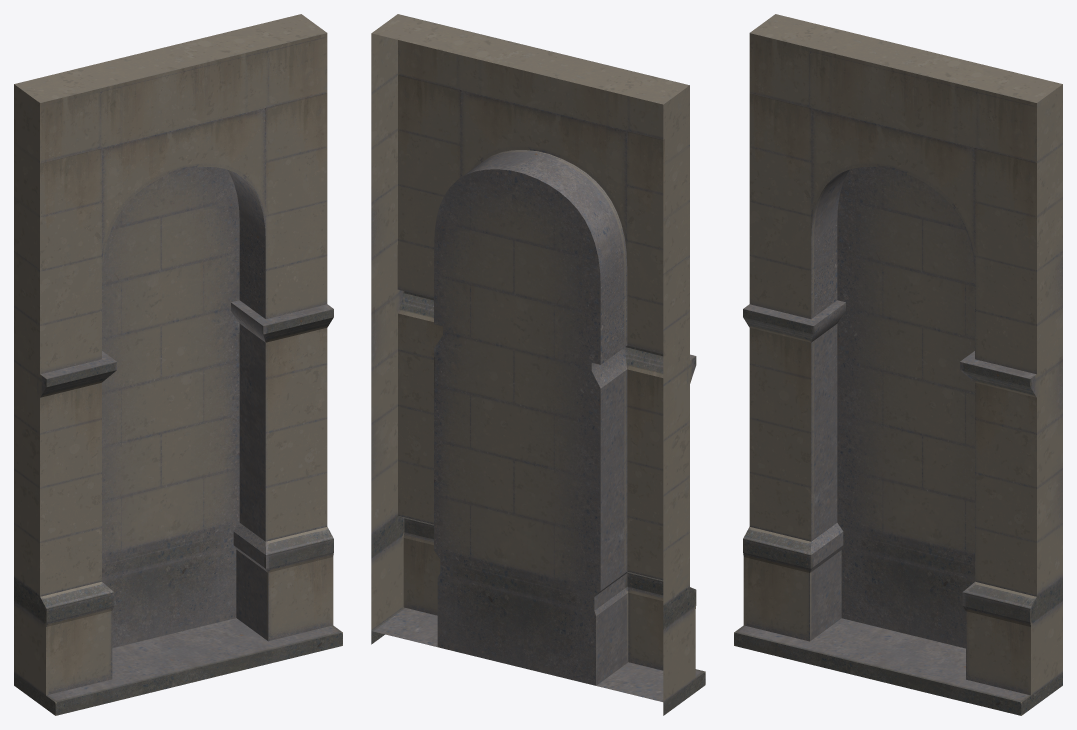
File: SM_Wall03.FBX
The picture shows the model from 3 angles, left to right: view 1: azimuth 30°, elevation 25°; view 2: azimuth 150°, elevation 25°; view 3: azimuth 330°, elevation 25°; orthographic projection.
Parts seen in each view (by area): view 1: SM_Wall03; view 2: SM_Wall03; view 3: SM_Wall03.
Part boxes in pixels (x1,y1,x2,y2): SM_Wall03: [14, 14, 342, 715]; SM_Wall03: [371, 14, 705, 715]; SM_Wall03: [734, 14, 1062, 715].
Bounding box in the file's own units: 400 × 100 × 800.
